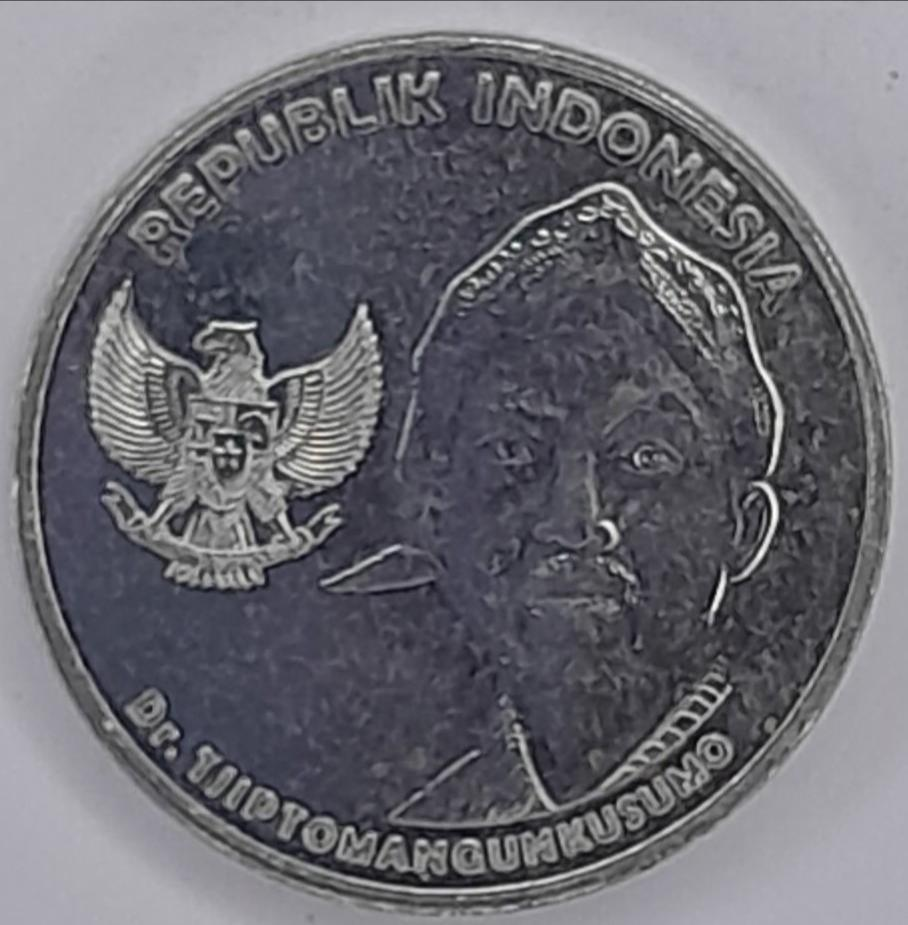coin_200_e2016: (0, 16, 908, 925)
